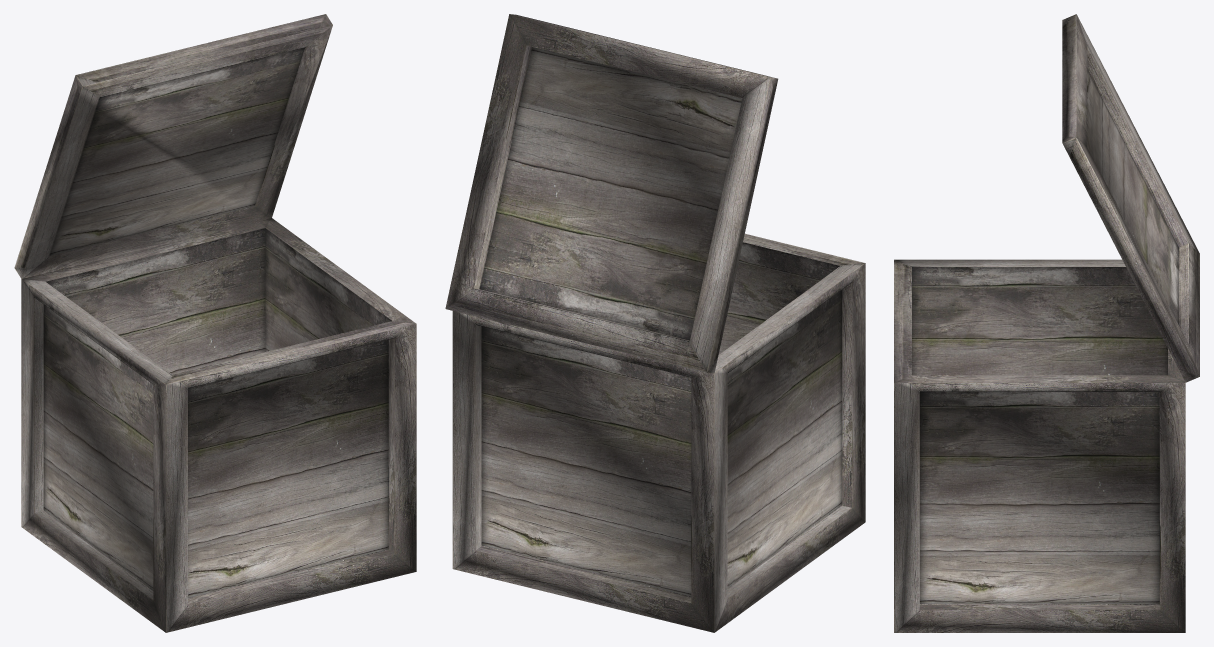
Rendered from UseCrate4@Close.fbx.
3 renders of one model, left to right at view 1: azimuth 30°, elevation 25°; view 2: azimuth 150°, elevation 25°; view 3: azimuth 270°, elevation 25°, orthographic. The views are drawn at different scales.
Visible parts, largest first — view 1: Body, Cap; view 2: Body, Cap; view 3: Body, Cap.
Part boxes in pixels (x1,y1,x2,y2): Body: (21,218,416,632); Cap: (14,14,332,278); Body: (452,233,865,632); Cap: (445,14,778,373); Body: (894,259,1185,632); Cap: (1062,14,1199,382).
Size of the model in its own units: 12.5 by 23.44 by 13.1.
1 material, 1 textured.
